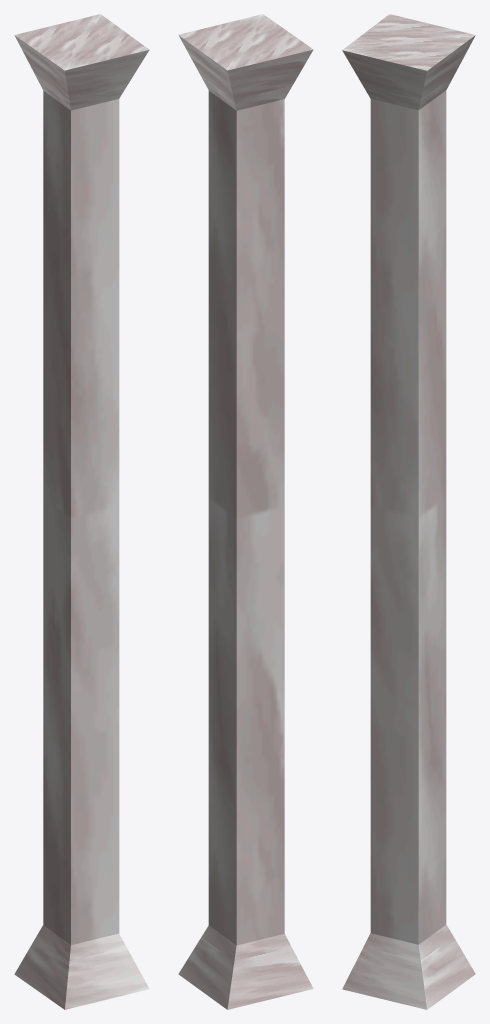
Rendered from Säule_DünnLang_2143.glb.
3 views of the same model, side by side, from view 1: azimuth 30°, elevation 25°; view 2: azimuth 210°, elevation 25°; view 3: azimuth 330°, elevation 25° (orthographic).
Visible parts, largest first — view 1: pCylinderShape220; view 2: pCylinderShape220; view 3: pCylinderShape220.
Part boxes in pixels (x1,y1,x2,y2): pCylinderShape220: (14,14,149,1009); pCylinderShape220: (178,14,313,1009); pCylinderShape220: (342,14,475,1009).
Size of the model in its own units: 0.0749 by 0.778 by 0.0737.
1 material, 1 textured.
